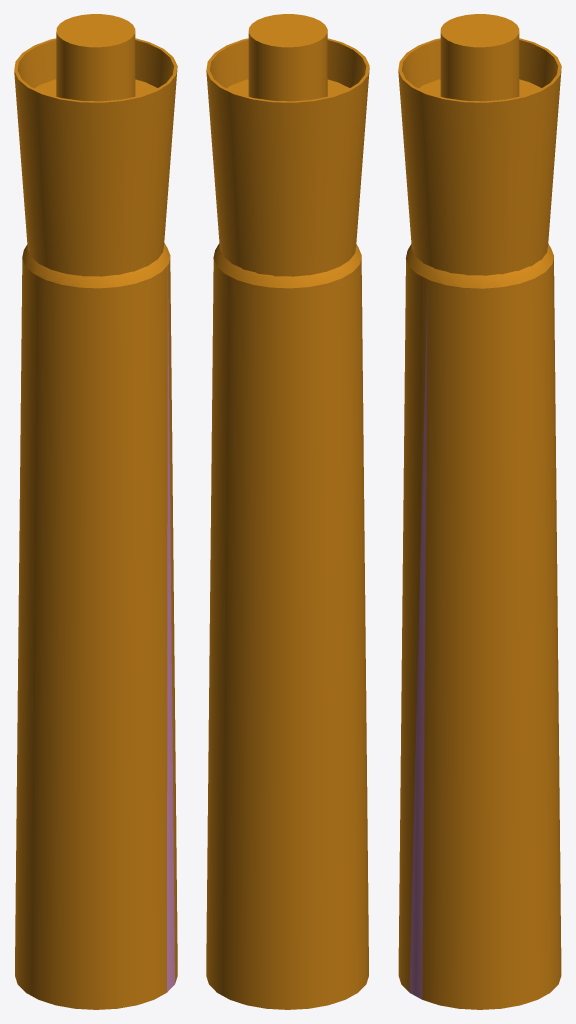
File: marker_orange.fbx
3 views of the same model, side by side, from view 1: azimuth 30°, elevation 25°; view 2: azimuth 150°, elevation 25°; view 3: azimuth 270°, elevation 25° (orthographic).
Visible parts, largest first — view 1: orange_marker, orange_cap; view 2: orange_marker, orange_cap; view 3: orange_marker, orange_cap.
Boxes of the visible parts, x1=… form: orange_marker: x1=15, y1=243, x2=177, y2=1009; orange_cap: x1=14, y1=14, x2=177, y2=276; orange_marker: x1=206, y1=243, x2=368, y2=1009; orange_cap: x1=206, y1=14, x2=369, y2=276; orange_marker: x1=398, y1=244, x2=561, y2=1009; orange_cap: x1=398, y1=14, x2=561, y2=275.
Bounding box in the file's own units: 1.86 × 11.84 × 1.86.
